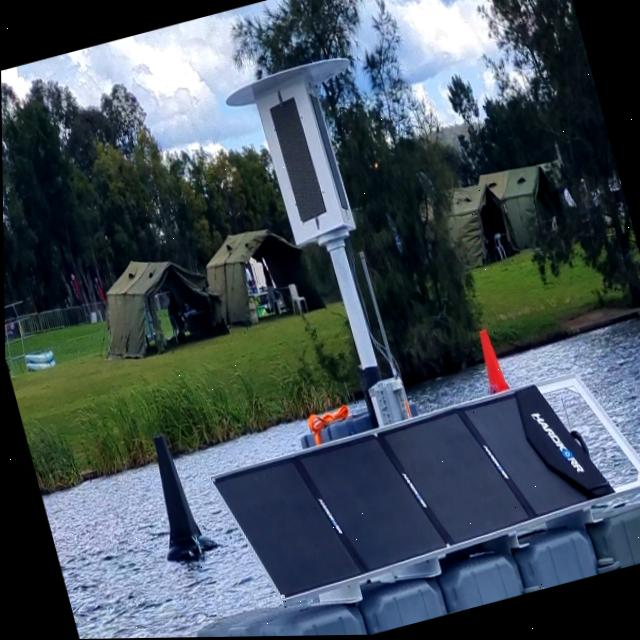led: (259, 85, 336, 234)
